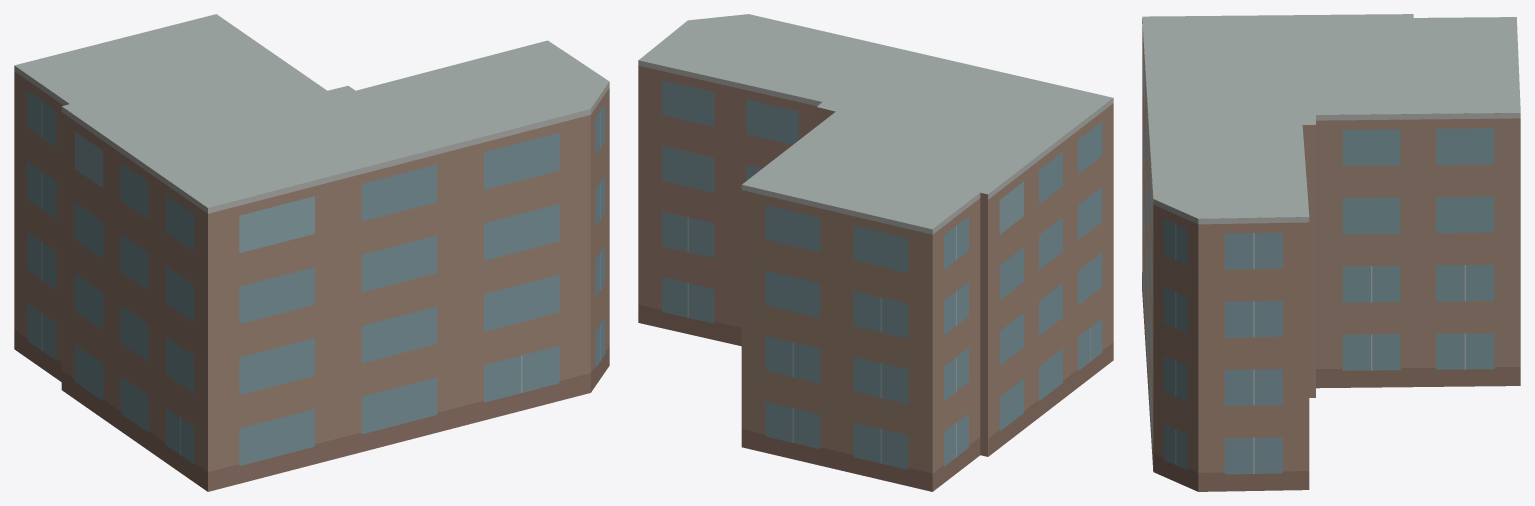
Rendered from survey-upis-32502905.glb.
The picture shows the model from 3 angles, left to right: view 1: azimuth 30°, elevation 25°; view 2: azimuth 150°, elevation 25°; view 3: azimuth 270°, elevation 25°; orthographic projection. The views are drawn at different scales.
Visible parts, largest first — view 1: survey-upis-32502905.tmp; view 2: survey-upis-32502905.tmp; view 3: survey-upis-32502905.tmp.
Boxes of the visible parts, x1=… form: survey-upis-32502905.tmp: x1=14, y1=14, x2=609, y2=491; survey-upis-32502905.tmp: x1=638, y1=14, x2=1113, y2=491; survey-upis-32502905.tmp: x1=1142, y1=14, x2=1520, y2=491.
Size of the model in its own units: 19.31 by 12 by 15.09.
